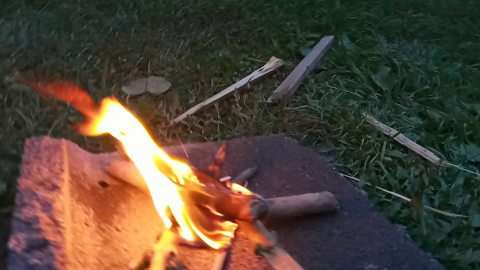fire: (26, 70, 266, 247)
